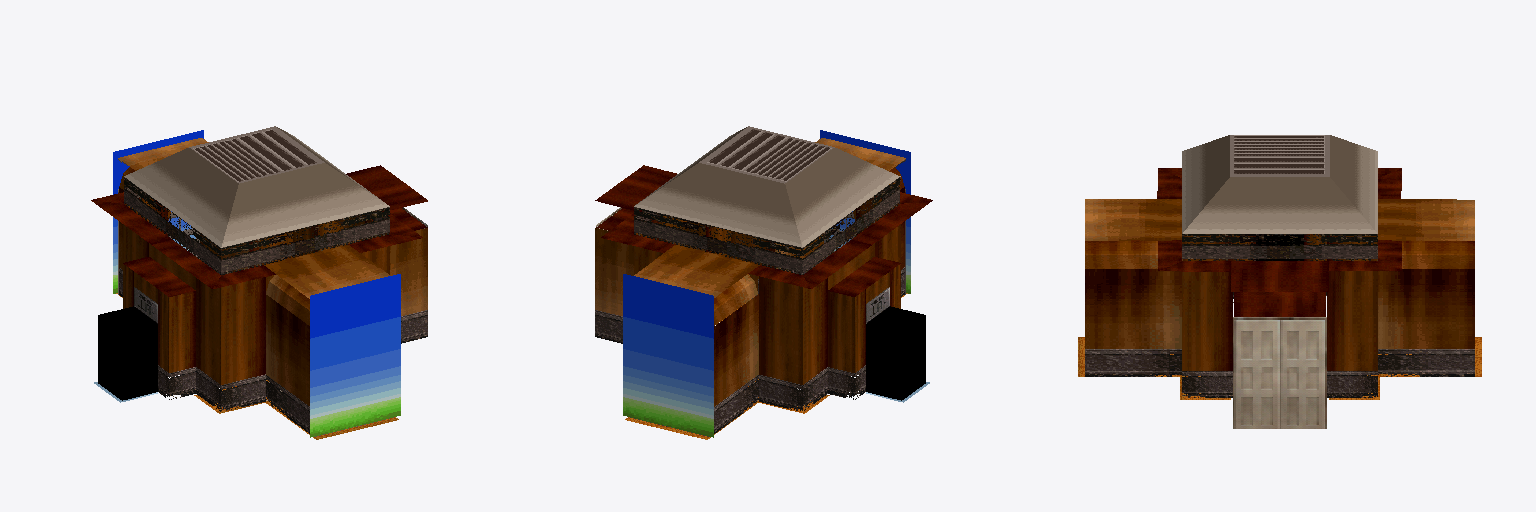
The picture shows the model from 3 angles: view 1: azimuth 30°, elevation 25°; view 2: azimuth 150°, elevation 25°; view 3: azimuth 270°, elevation 25°; orthographic projection.
Parts seen in each view (by area): view 1: Map_FRO; view 2: Map_FRO; view 3: Map_FRO.
Boxes of the visible parts, x1,y1,x2,y2 form: Map_FRO: [91, 126, 427, 439]; Map_FRO: [595, 126, 932, 439]; Map_FRO: [1078, 135, 1481, 428].
Bounding box in the file's own units: 28.27 × 18.25 × 33.14.
Materials: 8 (4 with a texture image).